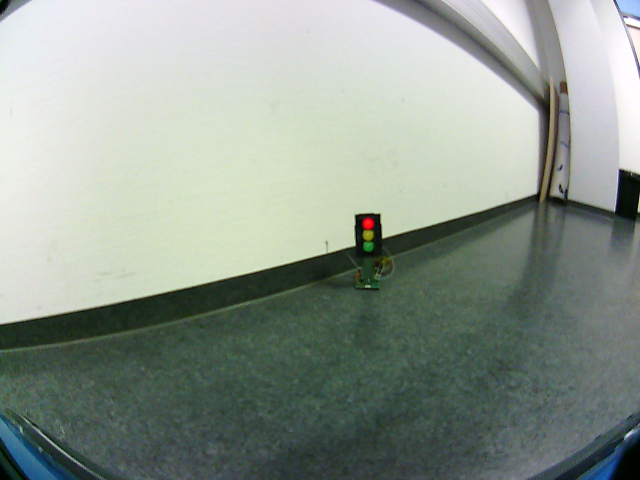red trafficlight: (355, 217, 381, 258)
